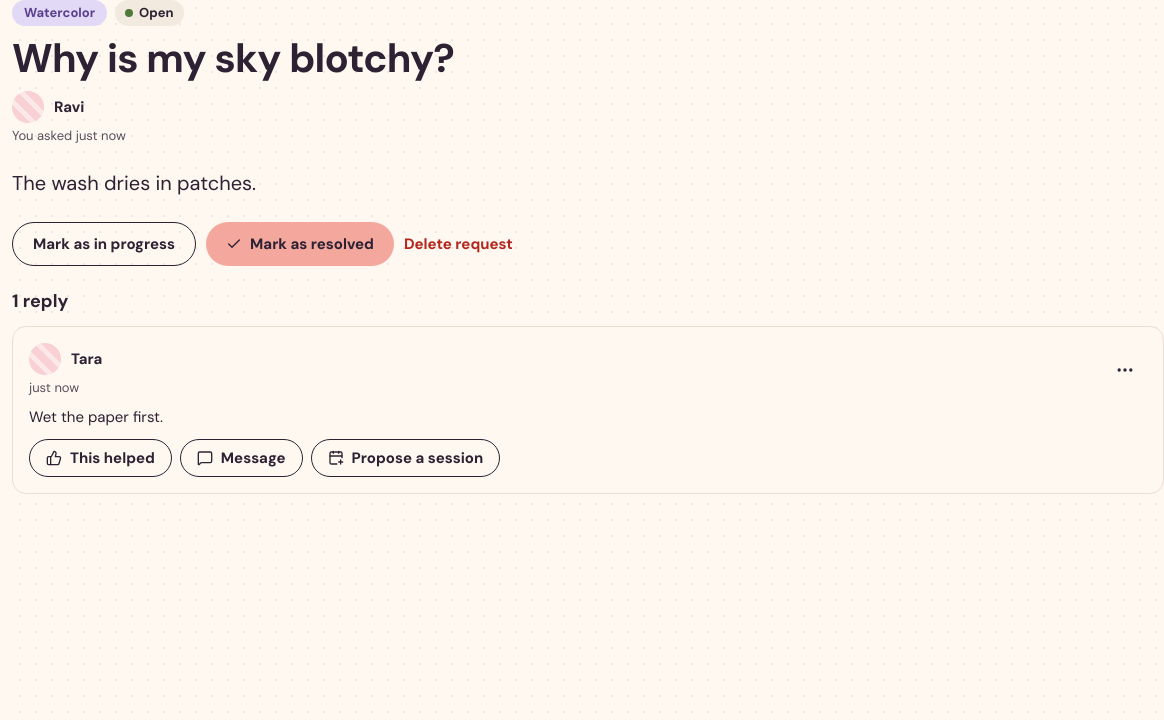
Scenario: HelpRequestView › lets the asker mark a response helpful, resolve and reopen the request
Click the button "This helped" at (100,458), box [29, 438, 172, 476]
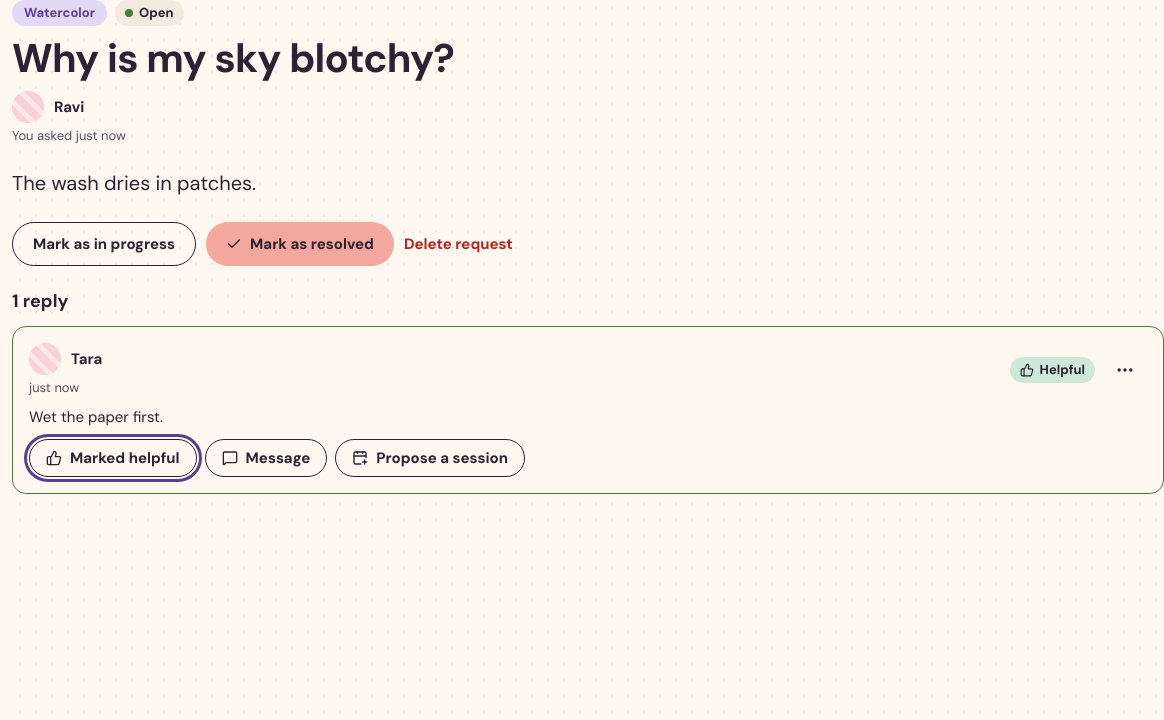
Now the button "Marked helpful" is pressed, box [29, 438, 197, 476]
Click the button "Mark as resolved" at (300,244), box [206, 222, 394, 266]
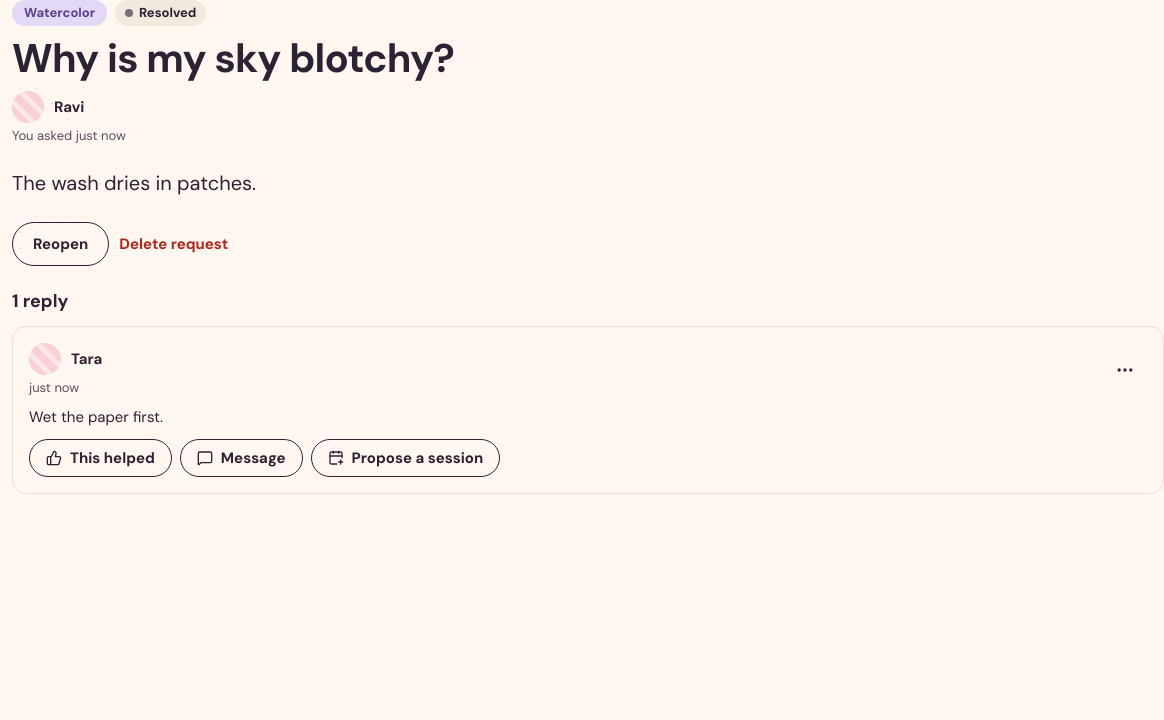
Click the button "Reopen" at (61,244), box [12, 222, 109, 266]
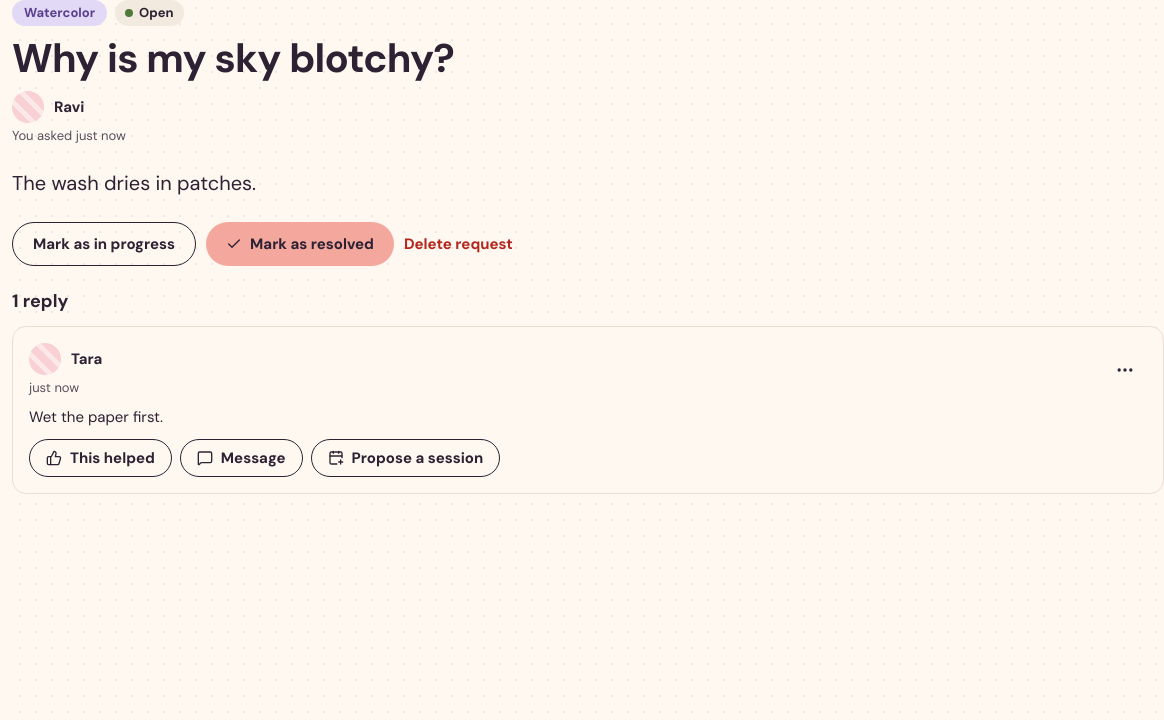
Now the button "Mark as resolved" is shown, box [206, 222, 394, 266]
